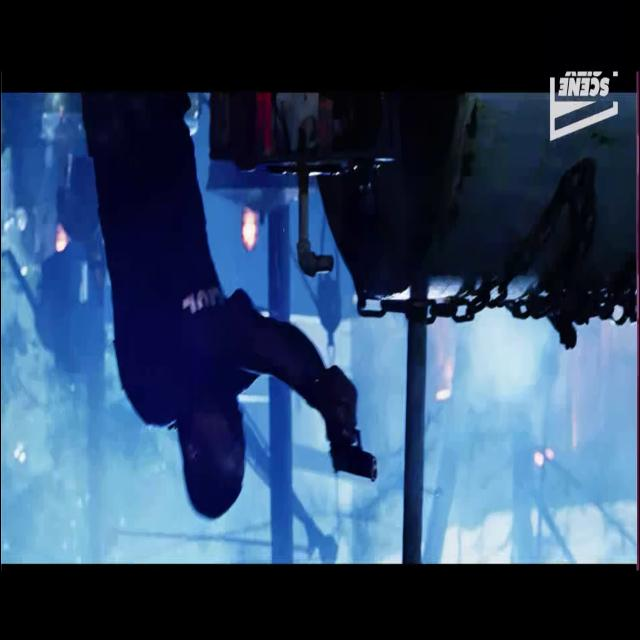weapons: (316, 366, 382, 501)
